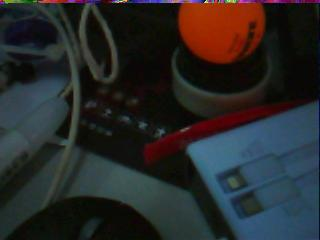oball: (178, 3, 264, 65)
